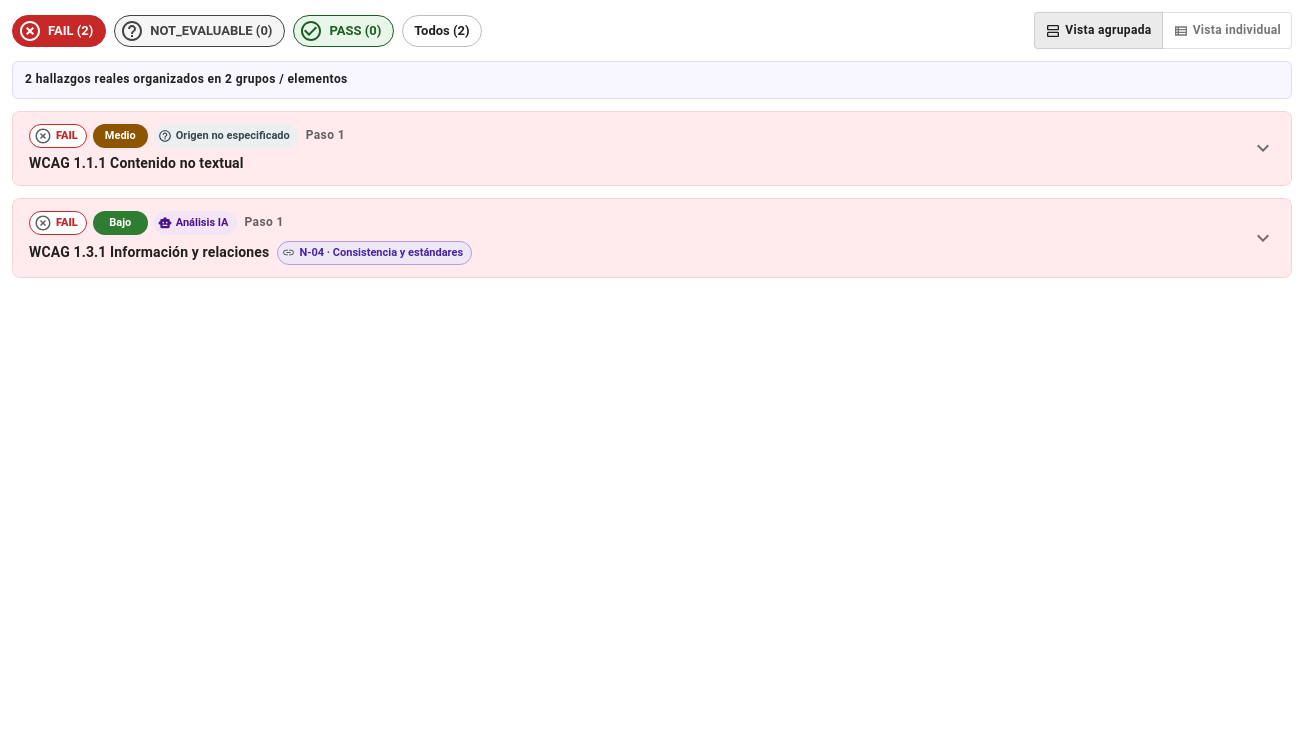
Scenario: FindingsAccordion — trazabilidad enriquecida (N-04 transversal, origen, confianza, impacto y discrepancias) › shows "Análisis IA" and "Hallazgo con doble clasificación" (not missing <h1>) for EJE-10 Gemini dual findings, and "Origen no especificado" for ambiguous findin
The width and height of the screenshot is (1304, 732).
Expected: the text "Análisis IA" is shown, [176,216,228,228]
Expected: the text "Origen no especificado" is shown, [168,128,298,144]
What coordinates should you click on to do the following:
click the 8th button
I would click on:
 (58, 223)
Its box is [13,199,1291,277].
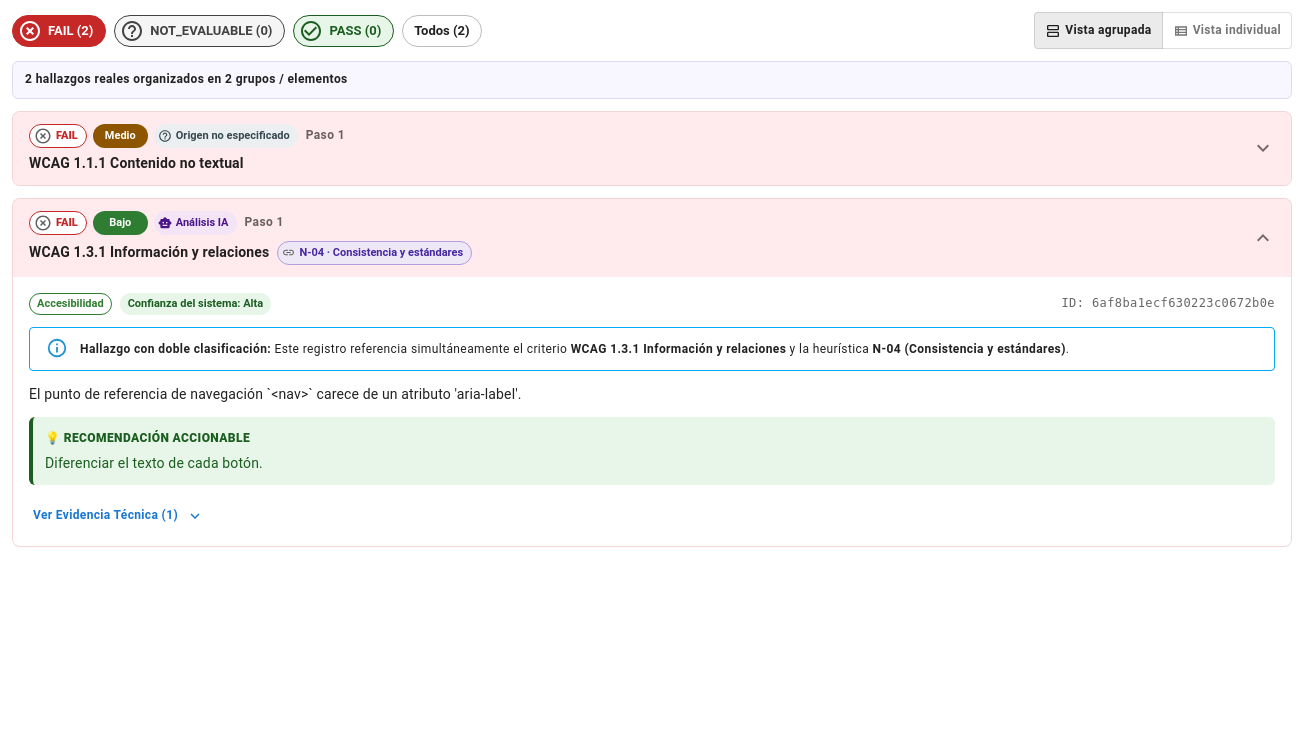
What coordinates should you click on to do the following:
click the button "Ver Evidencia Técnica (1)"
I would click on:
 (118, 516)
Its box is [29,501,206,530].
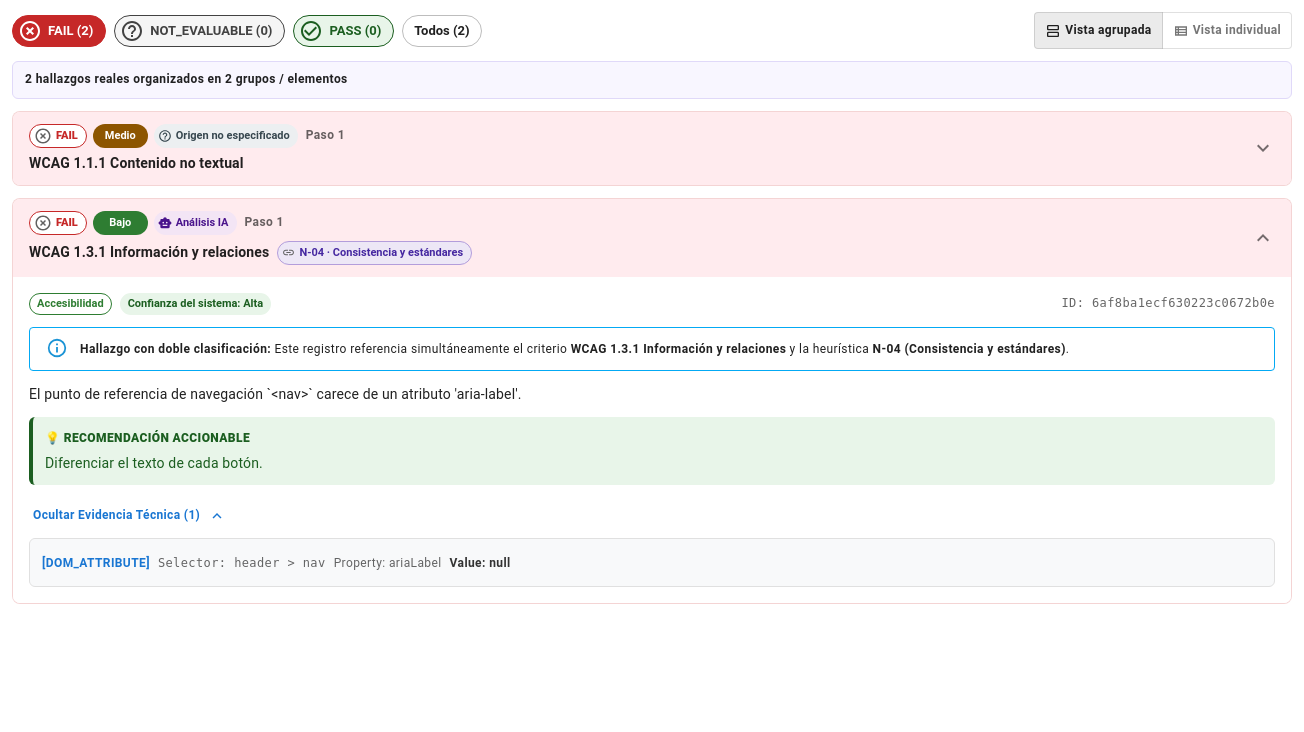
Result: the button named "Ver Evidencia Técnica (1)" is expanded at [29,501,228,530]
